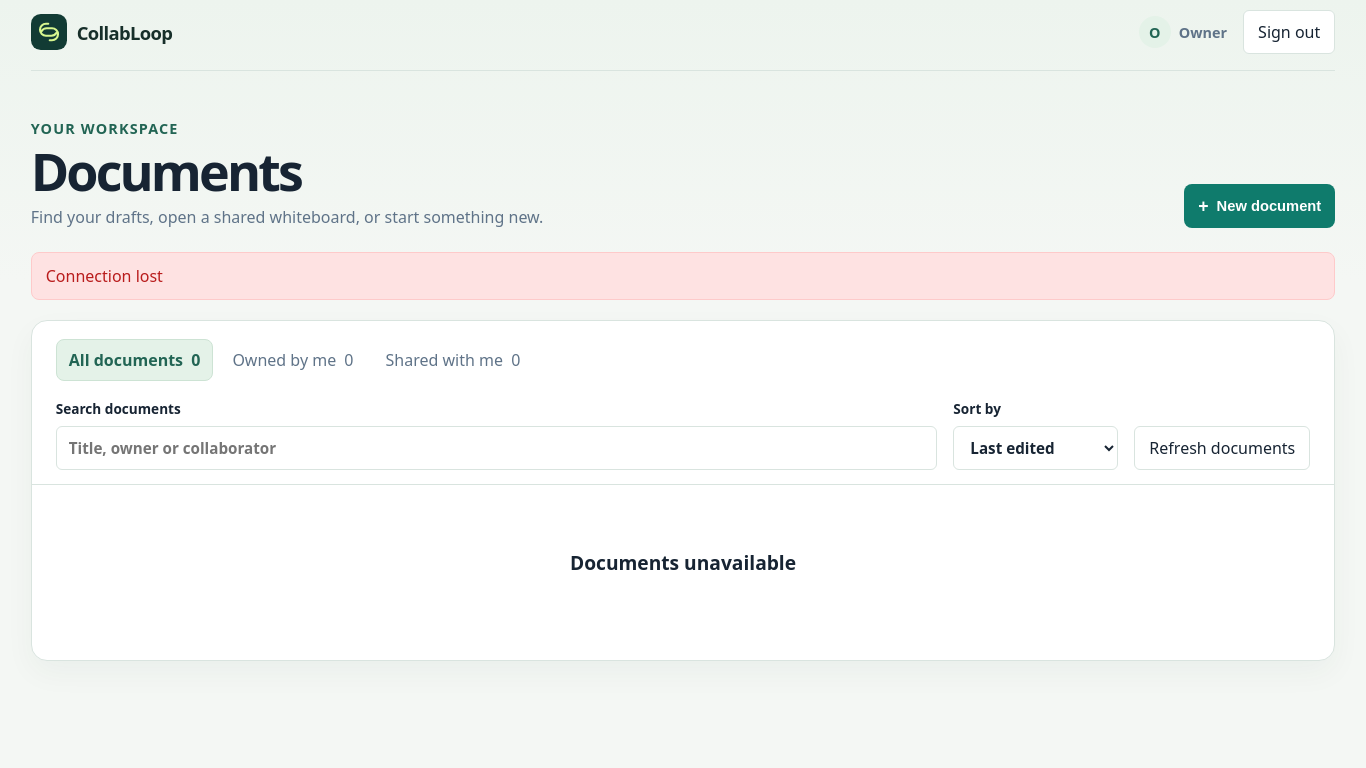
Test: can recover from a list error by refreshing
Expected: the message reads "Connection lost", x1=46 y1=265 x2=163 y2=287
Click the button "Refresh documents": {"x": 1222, "y": 448} x1=1134 y1=426 x2=1310 y2=470
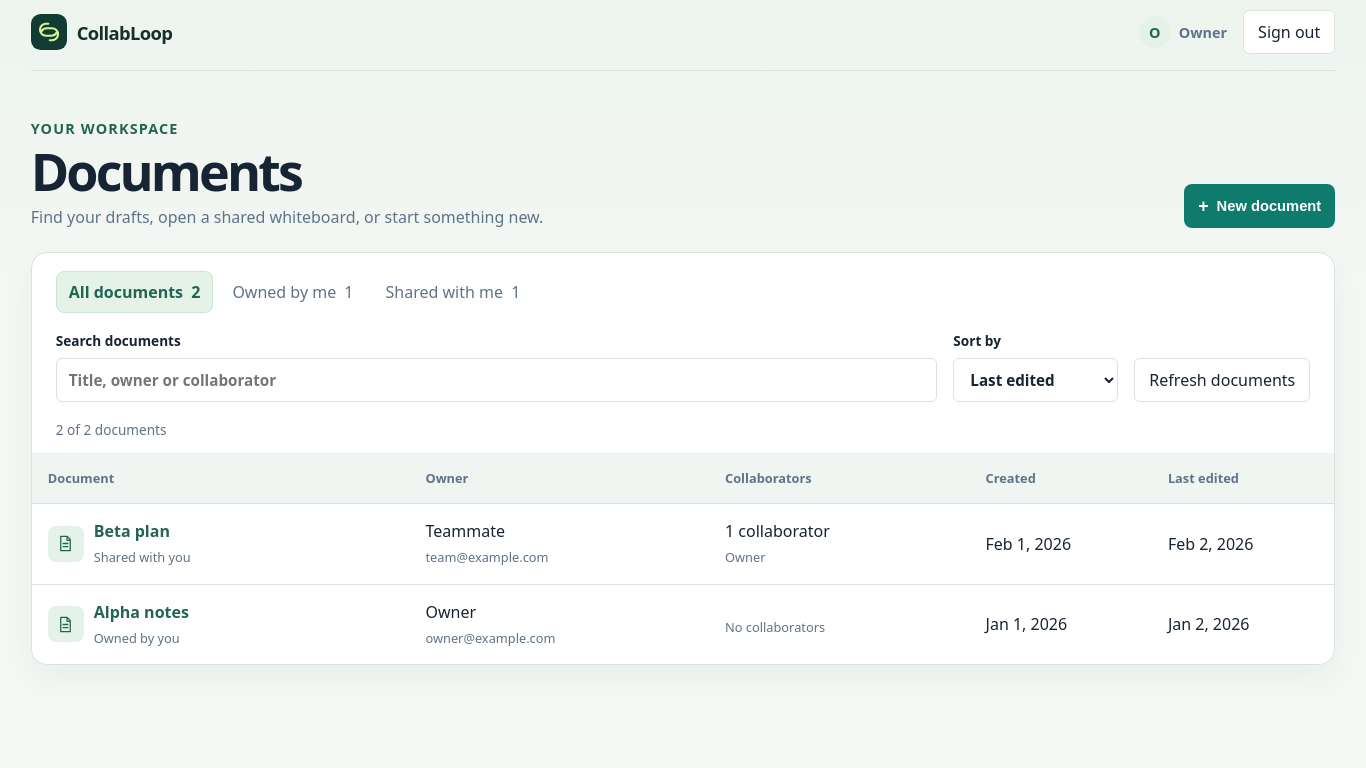
Now the button "Alpha notes" is shown, box x1=94 y1=601 x2=189 y2=623
